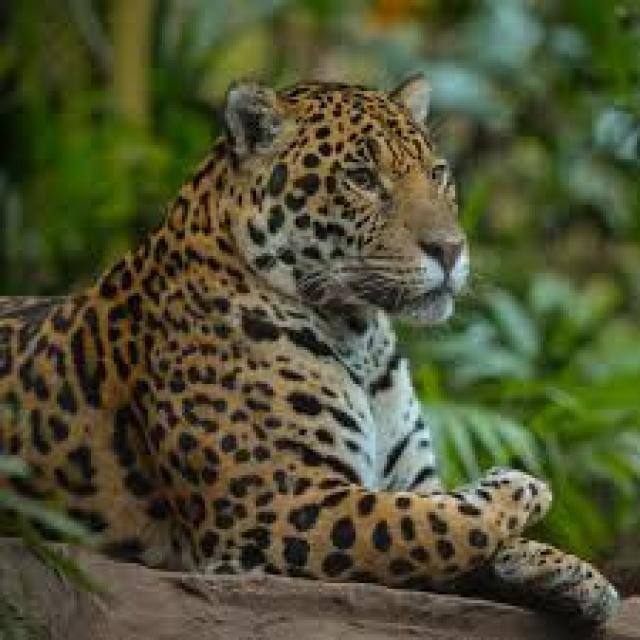Jaguar: (3, 62, 626, 628)
